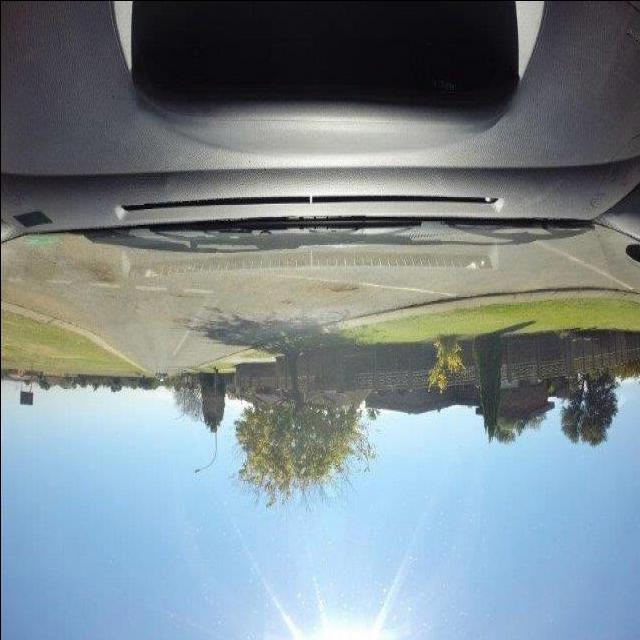lubang: (86, 258, 117, 290), (312, 278, 361, 298), (166, 287, 208, 303), (170, 313, 193, 329), (278, 295, 294, 308)
